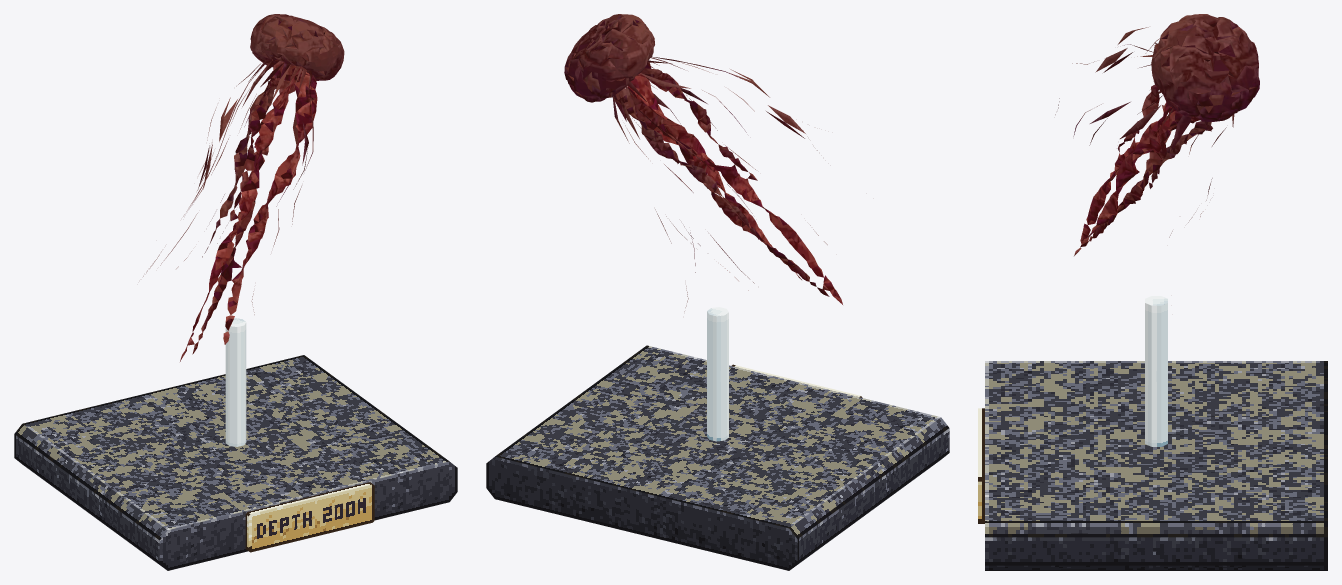
Rendered from jelly.glb.
The picture shows the model from 3 angles, left to right: view 1: azimuth 30°, elevation 25°; view 2: azimuth 150°, elevation 25°; view 3: azimuth 270°, elevation 25°; orthographic projection. The views are drawn at different scales.
Visible parts, largest first — view 1: base, model_jelly, plate, rod; view 2: base, model_jelly, rod; view 3: base, model_jelly, rod, plate.
Part boxes in pixels (x1,y1,x2,y2): base: (14, 355, 457, 570); model_jelly: (143, 14, 344, 361); plate: (245, 482, 374, 552); rod: (225, 318, 246, 446); base: (486, 345, 949, 570); model_jelly: (564, 14, 842, 311); rod: (707, 307, 728, 441); base: (985, 361, 1327, 570); model_jelly: (1055, 14, 1259, 255); rod: (1145, 296, 1167, 446); plate: (978, 408, 984, 523).
Bounding box in the file's own units: 26 × 36.4 × 22.45.
Materials: 2 (2 with a texture image).
